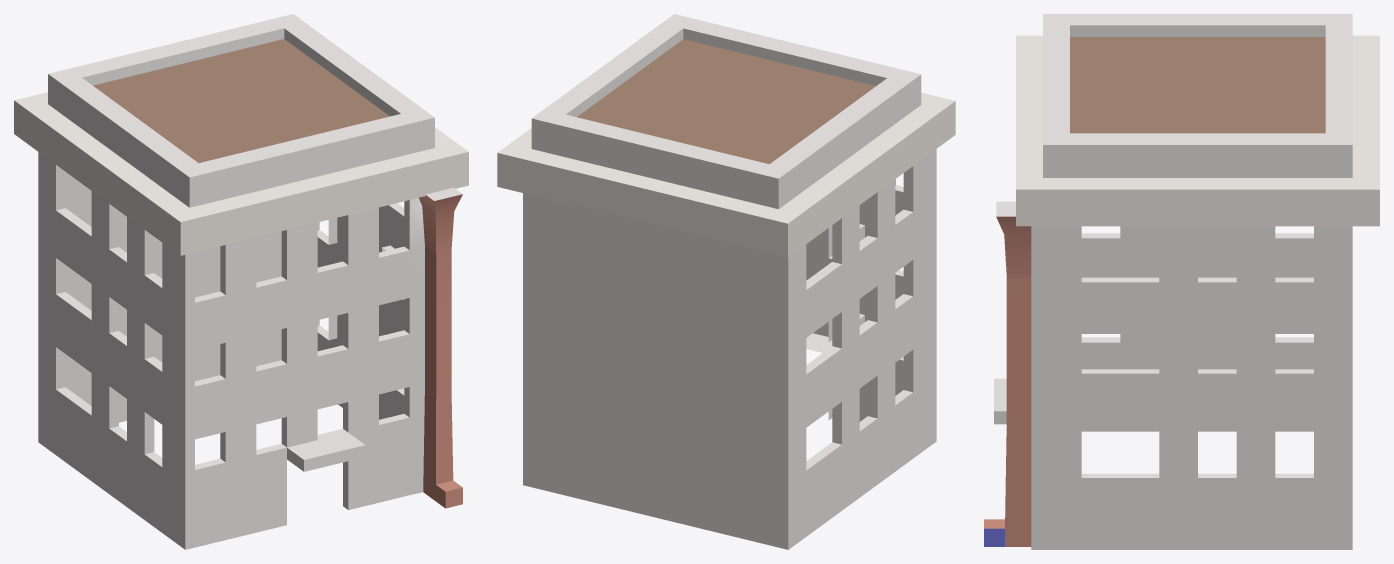
File: Build3.fbx
3 renders of one model, left to right at view 1: azimuth 30°, elevation 25°; view 2: azimuth 150°, elevation 25°; view 3: azimuth 270°, elevation 25°, orthographic. The views are drawn at different scales.
Parts seen in each view (by area): view 1: Build3; view 2: Build3; view 3: Build3.
Part boxes in pixels (box(x1,y1,x2,y2)): Build3: box(14, 14, 468, 549); Build3: box(497, 14, 955, 549); Build3: box(984, 14, 1379, 549).
Size of the model in its own units: 1.28 by 1.55 by 1.39.
